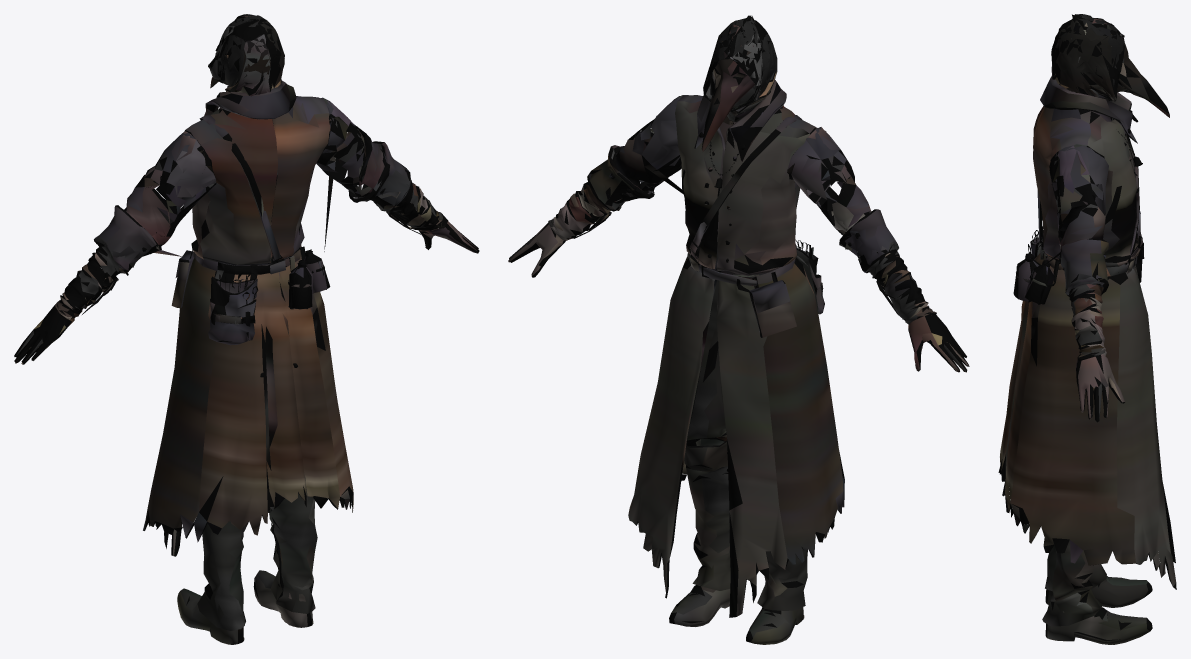
The picture shows the model from 3 angles, left to right: view 1: azimuth 30°, elevation 25°; view 2: azimuth 150°, elevation 25°; view 3: azimuth 270°, elevation 25°; orthographic projection.
Parts seen in each view (by area): view 1: mesh_0; view 2: mesh_0; view 3: mesh_0.
Boxes of the visible parts, <box> form: mesh_0: <box>14,14,479,644</box>; mesh_0: <box>508,15,969,644</box>; mesh_0: <box>998,14,1176,644</box>.
Size of the model in its own units: 58.16 by 72.75 by 19.42.
Materials: 1 (1 with a texture image).
